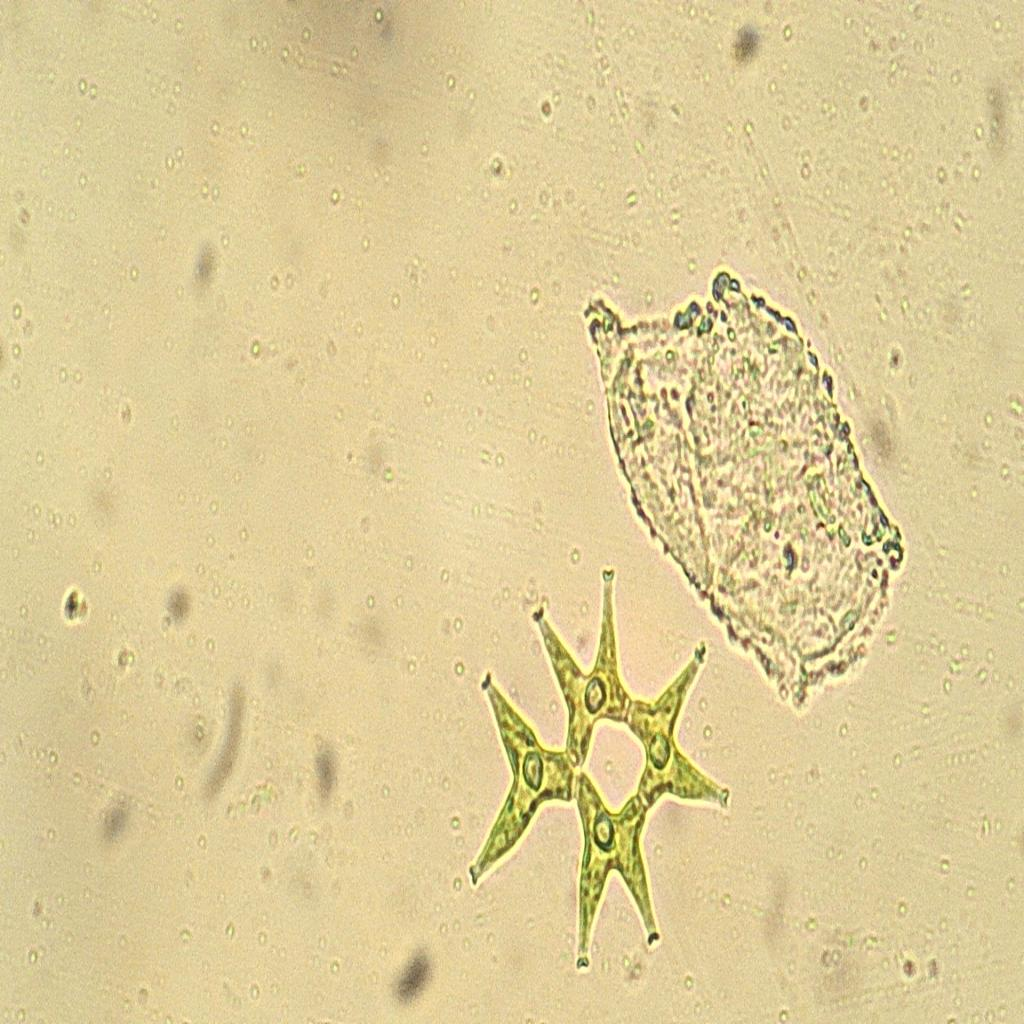Pediastrum_75FI: (434, 556, 741, 990)
